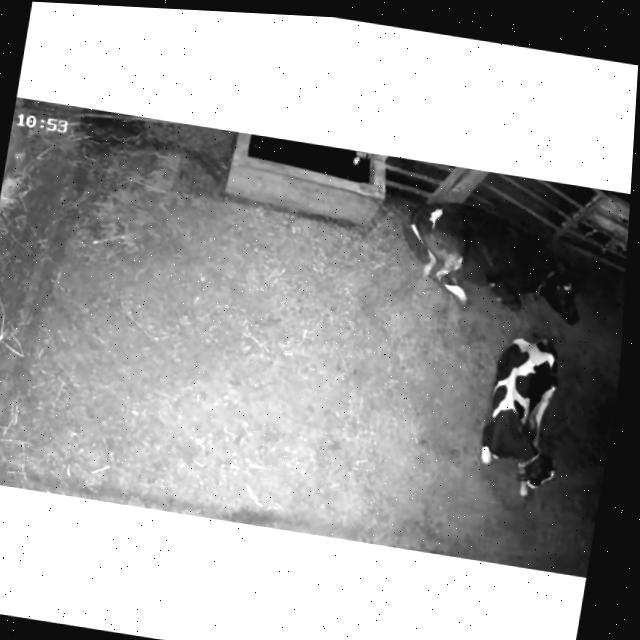lay: (384, 187, 608, 339), (458, 320, 588, 517)
